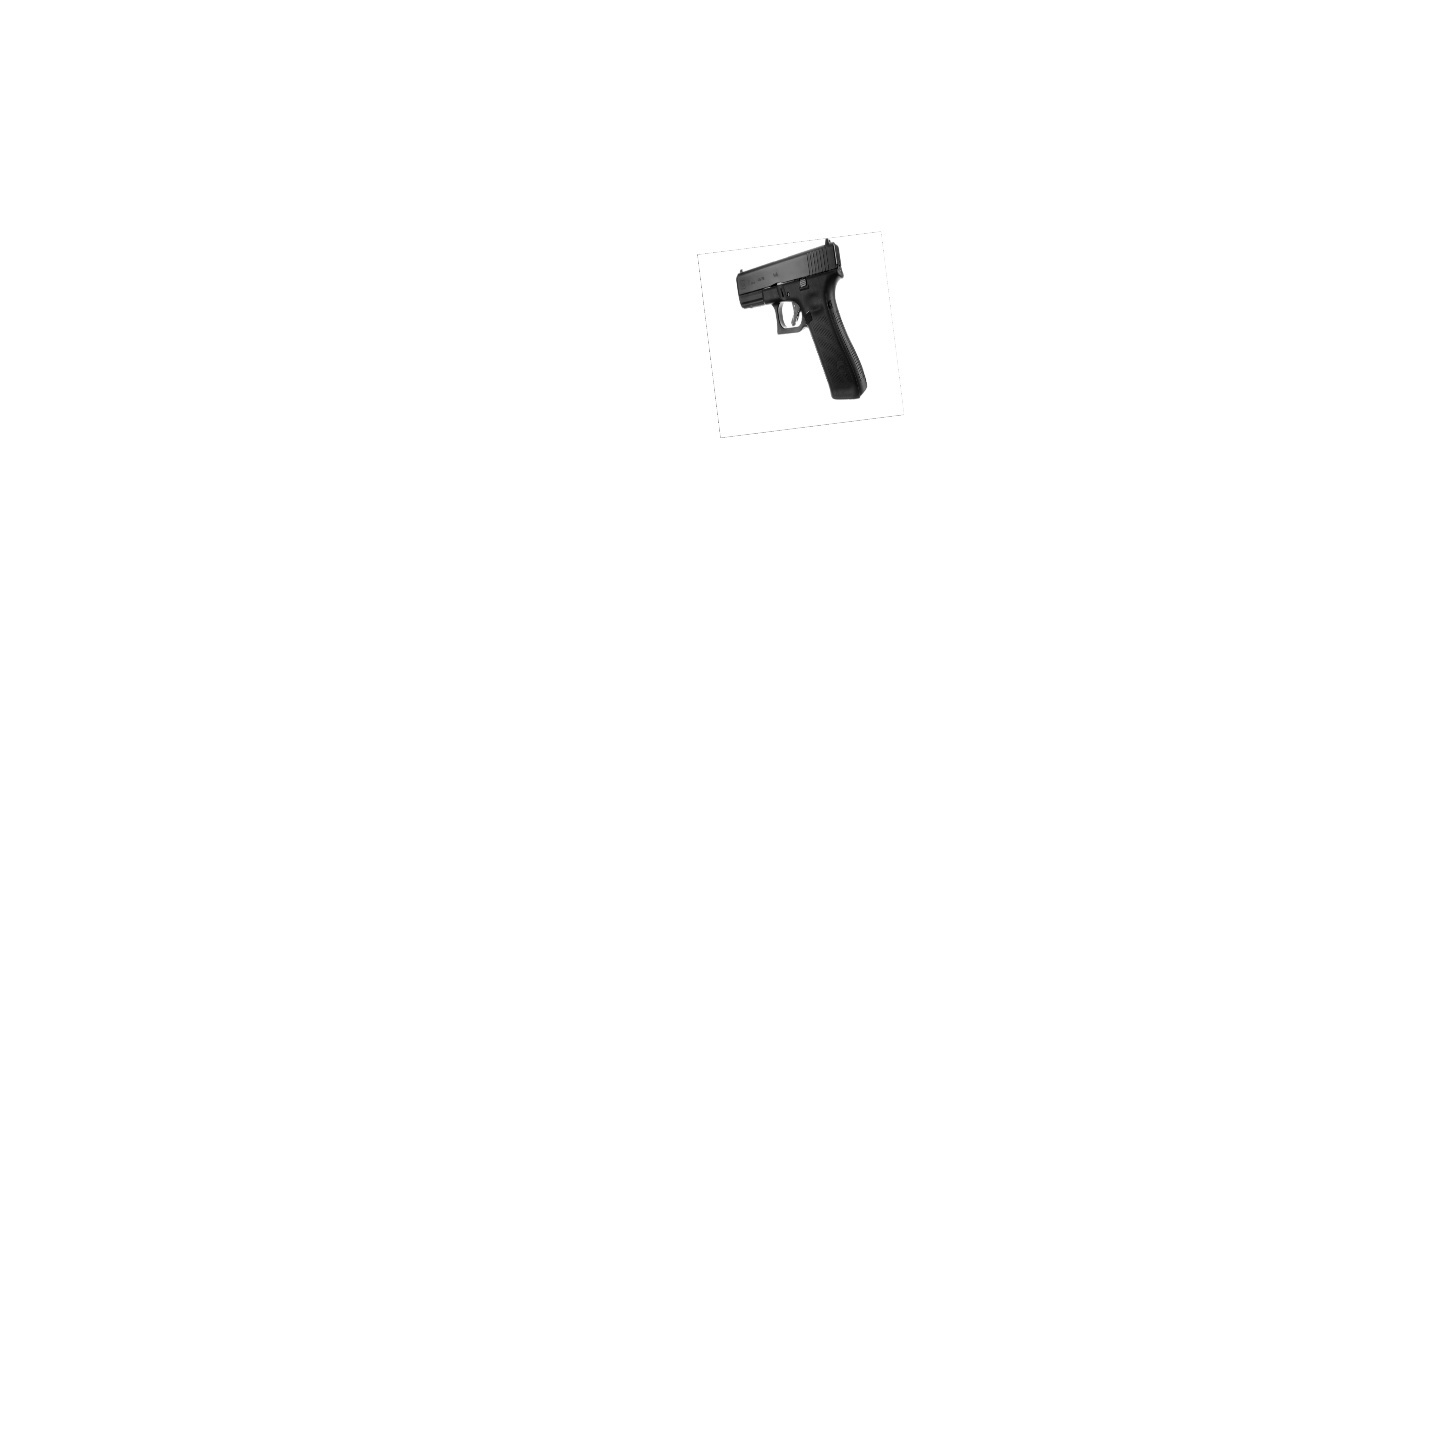gun: (736, 238, 868, 400)
